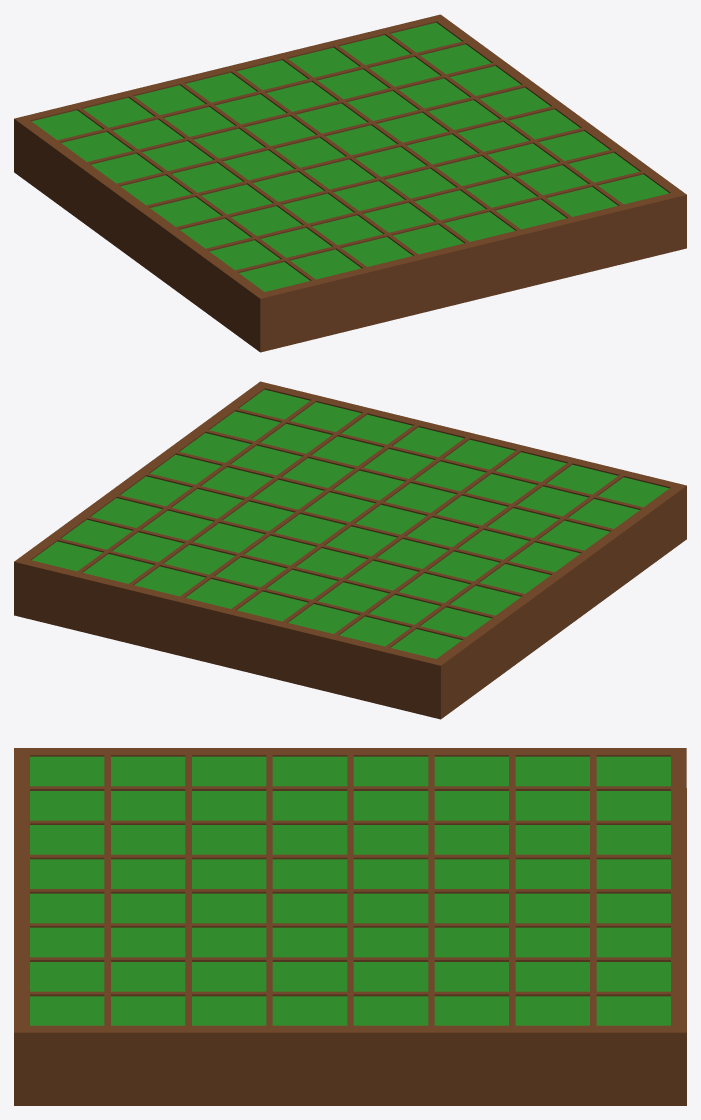
Rendered from Bord.fbx.
3 views of the same model, one above another, from view 1: azimuth 30°, elevation 25°; view 2: azimuth 150°, elevation 25°; view 3: azimuth 270°, elevation 25° (orthographic). The views are drawn at different scales.
Parts seen in each view (by area): view 1: Cube; view 2: Cube; view 3: Cube.
Part boxes in pixels (bbox=[...]): Cube: bbox=[14, 14, 686, 352]; Cube: bbox=[14, 381, 686, 719]; Cube: bbox=[14, 748, 686, 1105].
Size of the model in its own units: 1664 by 200 by 1663.
